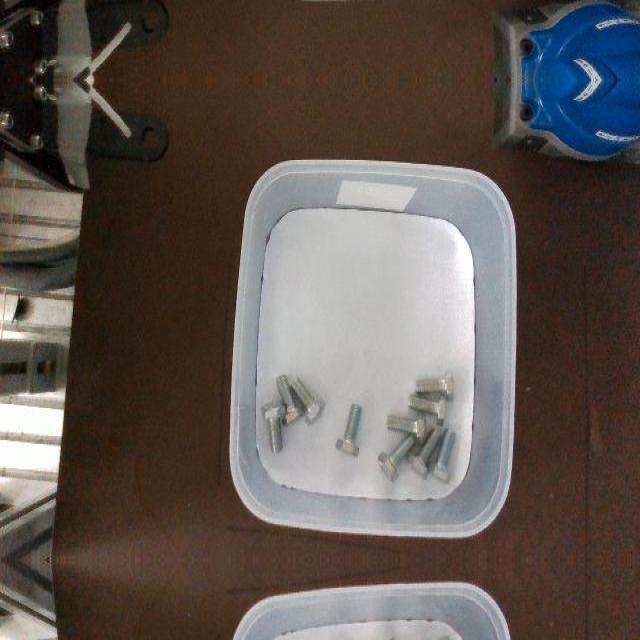screw: (377, 433, 415, 483), (407, 427, 441, 477), (428, 427, 457, 481), (291, 378, 325, 424), (335, 404, 362, 458), (277, 373, 305, 425), (387, 408, 425, 444), (261, 399, 286, 453), (415, 368, 453, 400), (408, 394, 447, 424)
